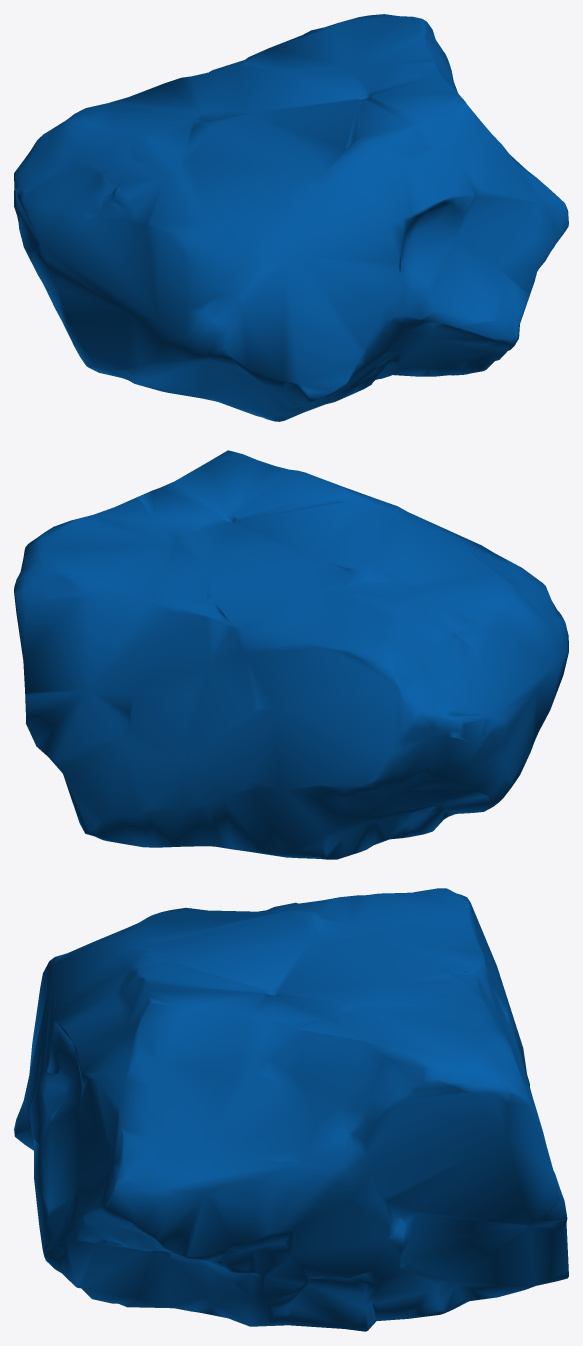
File: rock_mossy_18.glb
3 views of the same model, one above another, from view 1: azimuth 30°, elevation 25°; view 2: azimuth 150°, elevation 25°; view 3: azimuth 270°, elevation 25° (orthographic). The views are drawn at different scales.
Visible parts, largest first — view 1: mossy_green_rock18_LOW_RES; view 2: mossy_green_rock18_LOW_RES; view 3: mossy_green_rock18_LOW_RES.
Boxes of the visible parts, bbox=[...] form: mossy_green_rock18_LOW_RES: bbox=[14, 14, 568, 421]; mossy_green_rock18_LOW_RES: bbox=[14, 450, 568, 859]; mossy_green_rock18_LOW_RES: bbox=[14, 888, 568, 1331].
Size of the model in its own units: 0.9992 by 0.5834 by 0.9181.
1 material, 1 textured.
